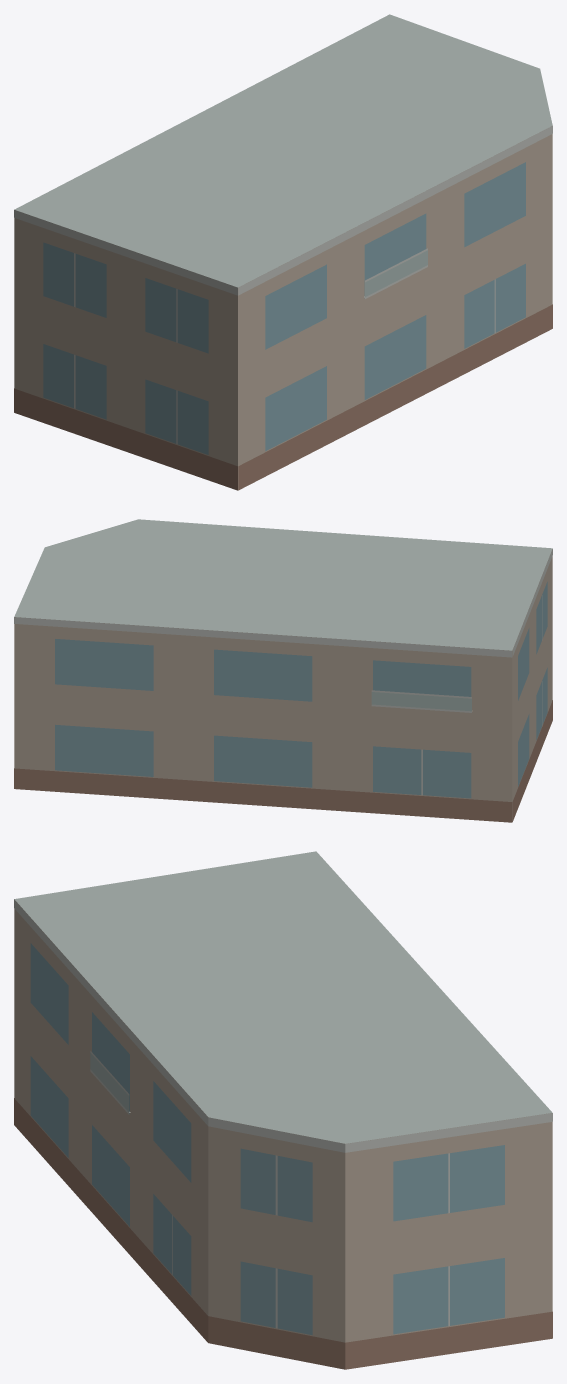
File: survey-upis-32866049.glb
3 views of the same model, one above another, from view 1: azimuth 30°, elevation 25°; view 2: azimuth 150°, elevation 25°; view 3: azimuth 270°, elevation 25° (orthographic). The views are drawn at different scales.
Parts seen in each view (by area): view 1: survey-upis-32866049.tmp; view 2: survey-upis-32866049.tmp; view 3: survey-upis-32866049.tmp.
Part boxes in pixels (x1=…): survey-upis-32866049.tmp: x1=14, y1=14, x2=552, y2=490; survey-upis-32866049.tmp: x1=14, y1=519, x2=552, y2=822; survey-upis-32866049.tmp: x1=14, y1=851, x2=552, y2=1369.
Bounding box in the file's own units: 16.96 × 6.1 × 13.2.
